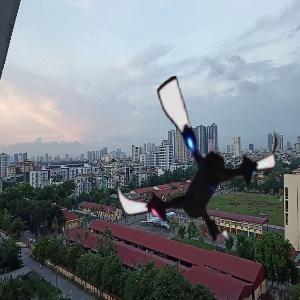drone: (105, 75, 285, 255)
